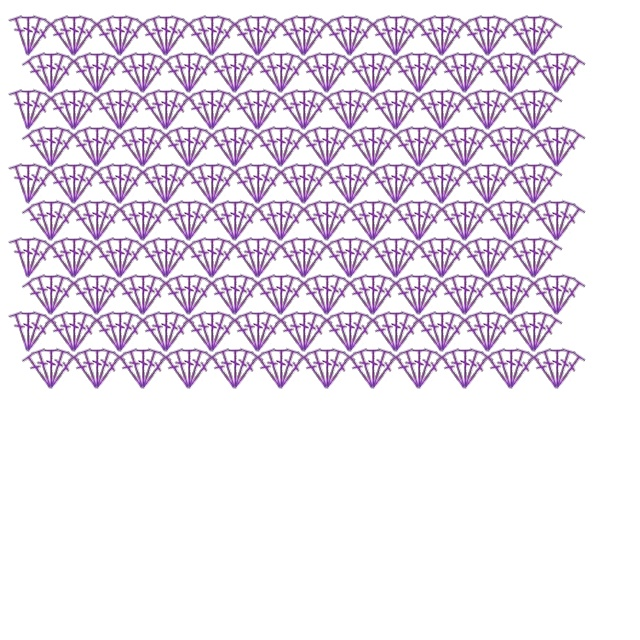double treble: (22, 18, 58, 60), (44, 18, 80, 60), (68, 18, 104, 60), (90, 18, 126, 60), (114, 18, 150, 60), (136, 18, 172, 60), (160, 18, 196, 60), (182, 18, 218, 60), (206, 18, 242, 60), (228, 18, 264, 60), (252, 18, 288, 60), (274, 18, 310, 60), (298, 18, 334, 60), (320, 18, 356, 60), (344, 18, 380, 60), (366, 18, 402, 60), (390, 18, 426, 60), (412, 18, 448, 60), (436, 18, 472, 60), (458, 18, 494, 60), (482, 18, 518, 60), (504, 18, 540, 60), (528, 18, 564, 60), (21, 55, 57, 97), (45, 55, 81, 97), (67, 55, 103, 97), (91, 55, 127, 97), (113, 55, 149, 97), (137, 55, 173, 97), (159, 55, 195, 97), (183, 55, 219, 97), (205, 55, 241, 97), (229, 55, 265, 97), (251, 55, 287, 97), (275, 55, 311, 97), (297, 55, 333, 97), (321, 55, 357, 97), (343, 55, 379, 97), (367, 55, 403, 97), (389, 55, 425, 97), (413, 55, 449, 97), (435, 55, 471, 97), (459, 55, 495, 97), (481, 55, 517, 97), (505, 55, 541, 97), (527, 55, 563, 97), (551, 55, 587, 97), (22, 92, 58, 134), (44, 92, 80, 134), (68, 92, 104, 134), (90, 92, 126, 134), (114, 92, 150, 134), (136, 92, 172, 134), (160, 92, 196, 134), (182, 92, 218, 134), (206, 92, 242, 134), (228, 92, 264, 134), (252, 92, 288, 134), (274, 92, 310, 134), (298, 92, 334, 134), (320, 92, 356, 134), (344, 92, 380, 134), (366, 92, 402, 134), (390, 92, 426, 134), (412, 92, 448, 134), (436, 92, 472, 134), (458, 92, 494, 134), (482, 92, 518, 134), (504, 92, 540, 134), (528, 92, 564, 134), (21, 129, 57, 171), (45, 129, 81, 171), (67, 129, 103, 171), (91, 129, 127, 171), (113, 129, 149, 171), (137, 129, 173, 171), (159, 129, 195, 171), (183, 129, 219, 171), (205, 129, 241, 171), (229, 129, 265, 171), (251, 129, 287, 171), (275, 129, 311, 171), (297, 129, 333, 171), (321, 129, 357, 171), (343, 129, 379, 171), (367, 129, 403, 171), (389, 129, 425, 171), (413, 129, 449, 171), (435, 129, 471, 171), (459, 129, 495, 171), (481, 129, 517, 171), (505, 129, 541, 171), (527, 129, 563, 171), (551, 129, 587, 171), (22, 166, 58, 208), (44, 166, 80, 208), (68, 166, 104, 208), (90, 166, 126, 208), (114, 166, 150, 208), (136, 166, 172, 208), (160, 166, 196, 208), (182, 166, 218, 208), (206, 166, 242, 208), (228, 166, 264, 208), (252, 166, 288, 208), (274, 166, 310, 208), (298, 166, 334, 208), (320, 166, 356, 208), (344, 166, 380, 208), (366, 166, 402, 208), (390, 166, 426, 208), (412, 166, 448, 208), (436, 166, 472, 208), (458, 166, 494, 208), (482, 166, 518, 208), (504, 166, 540, 208), (528, 166, 564, 208), (21, 203, 57, 245), (45, 203, 81, 245), (67, 203, 103, 245), (91, 203, 127, 245), (113, 203, 149, 245), (137, 203, 173, 245), (159, 203, 195, 245), (183, 203, 219, 245), (205, 203, 241, 245), (229, 203, 265, 245), (251, 203, 287, 245), (275, 203, 311, 245), (297, 203, 333, 245), (321, 203, 357, 245), (343, 203, 379, 245), (367, 203, 403, 245), (389, 203, 425, 245), (413, 203, 449, 245), (435, 203, 471, 245), (459, 203, 495, 245), (481, 203, 517, 245), (505, 203, 541, 245), (527, 203, 563, 245), (551, 203, 587, 245), (22, 240, 58, 282), (44, 240, 80, 282), (68, 240, 104, 282), (90, 240, 126, 282), (114, 240, 150, 282), (136, 240, 172, 282), (160, 240, 196, 282), (182, 240, 218, 282), (206, 240, 242, 282), (228, 240, 264, 282), (252, 240, 288, 282), (274, 240, 310, 282), (298, 240, 334, 282), (320, 240, 356, 282), (344, 240, 380, 282), (366, 240, 402, 282), (390, 240, 426, 282), (412, 240, 448, 282), (436, 240, 472, 282), (458, 240, 494, 282), (482, 240, 518, 282), (504, 240, 540, 282), (528, 240, 564, 282), (21, 277, 57, 319), (45, 277, 81, 319), (67, 277, 103, 319), (91, 277, 127, 319), (113, 277, 149, 319), (137, 277, 173, 319), (159, 277, 195, 319), (183, 277, 219, 319), (205, 277, 241, 319), (229, 277, 265, 319), (251, 277, 287, 319), (275, 277, 311, 319), (297, 277, 333, 319), (321, 277, 357, 319), (343, 277, 379, 319), (367, 277, 403, 319), (389, 277, 425, 319), (413, 277, 449, 319), (435, 277, 471, 319), (459, 277, 495, 319), (481, 277, 517, 319), (505, 277, 541, 319), (527, 277, 563, 319), (551, 277, 587, 319), (22, 314, 58, 356), (44, 314, 80, 356), (68, 314, 104, 356), (90, 314, 126, 356), (114, 314, 150, 356), (136, 314, 172, 356), (160, 314, 196, 356), (182, 314, 218, 356), (206, 314, 242, 356), (228, 314, 264, 356), (252, 314, 288, 356), (274, 314, 310, 356), (298, 314, 334, 356), (320, 314, 356, 356), (344, 314, 380, 356), (366, 314, 402, 356), (390, 314, 426, 356), (412, 314, 448, 356), (436, 314, 472, 356), (458, 314, 494, 356), (482, 314, 518, 356), (504, 314, 540, 356), (528, 314, 564, 356), (21, 351, 57, 393), (45, 351, 81, 393), (67, 351, 103, 393), (91, 351, 127, 393), (113, 351, 149, 393), (137, 351, 173, 393), (159, 351, 195, 393), (183, 351, 219, 393), (205, 351, 241, 393), (229, 351, 265, 393), (251, 351, 287, 393), (275, 351, 311, 393), (297, 351, 333, 393), (321, 351, 357, 393), (343, 351, 379, 393), (367, 351, 403, 393), (389, 351, 425, 393), (413, 351, 449, 393), (435, 351, 471, 393), (459, 351, 495, 393), (481, 351, 517, 393), (505, 351, 541, 393), (527, 351, 563, 393), (551, 351, 587, 393), (9, 14, 35, 58), (21, 14, 47, 58), (55, 14, 81, 58), (67, 14, 93, 58), (101, 14, 127, 58), (113, 14, 139, 58), (147, 14, 173, 58), (159, 14, 185, 58), (193, 14, 219, 58), (205, 14, 231, 58), (239, 14, 265, 58), (251, 14, 277, 58), (285, 14, 311, 58), (297, 14, 323, 58), (331, 14, 357, 58), (343, 14, 369, 58), (377, 14, 403, 58), (389, 14, 415, 58), (423, 14, 449, 58), (435, 14, 461, 58), (469, 14, 495, 58), (481, 14, 507, 58), (515, 14, 541, 58), (527, 14, 553, 58), (32, 51, 58, 95), (44, 51, 70, 95), (78, 51, 104, 95), (90, 51, 116, 95), (124, 51, 150, 95), (136, 51, 162, 95), (170, 51, 196, 95), (182, 51, 208, 95), (216, 51, 242, 95), (228, 51, 254, 95), (262, 51, 288, 95), (274, 51, 300, 95), (308, 51, 334, 95), (320, 51, 346, 95), (354, 51, 380, 95), (366, 51, 392, 95), (400, 51, 426, 95), (412, 51, 438, 95), (446, 51, 472, 95), (458, 51, 484, 95), (492, 51, 518, 95), (504, 51, 530, 95), (538, 51, 564, 95), (550, 51, 576, 95), (9, 88, 35, 132), (21, 88, 47, 132), (55, 88, 81, 132), (67, 88, 93, 132), (101, 88, 127, 132), (113, 88, 139, 132), (147, 88, 173, 132), (159, 88, 185, 132), (193, 88, 219, 132), (205, 88, 231, 132), (239, 88, 265, 132), (251, 88, 277, 132), (285, 88, 311, 132), (297, 88, 323, 132), (331, 88, 357, 132), (343, 88, 369, 132), (377, 88, 403, 132), (389, 88, 415, 132), (423, 88, 449, 132), (435, 88, 461, 132), (469, 88, 495, 132), (481, 88, 507, 132), (515, 88, 541, 132), (527, 88, 553, 132), (32, 125, 58, 169), (44, 125, 70, 169), (78, 125, 104, 169), (90, 125, 116, 169), (124, 125, 150, 169), (136, 125, 162, 169), (170, 125, 196, 169), (182, 125, 208, 169), (216, 125, 242, 169), (228, 125, 254, 169), (262, 125, 288, 169), (274, 125, 300, 169), (308, 125, 334, 169), (320, 125, 346, 169), (354, 125, 380, 169), (366, 125, 392, 169), (400, 125, 426, 169), (412, 125, 438, 169), (446, 125, 472, 169), (458, 125, 484, 169), (492, 125, 518, 169), (504, 125, 530, 169), (538, 125, 564, 169), (550, 125, 576, 169), (9, 162, 35, 206), (21, 162, 47, 206), (55, 162, 81, 206), (67, 162, 93, 206), (101, 162, 127, 206), (113, 162, 139, 206), (147, 162, 173, 206), (159, 162, 185, 206), (193, 162, 219, 206), (205, 162, 231, 206), (239, 162, 265, 206), (251, 162, 277, 206), (285, 162, 311, 206), (297, 162, 323, 206), (331, 162, 357, 206), (343, 162, 369, 206), (377, 162, 403, 206), (389, 162, 415, 206), (423, 162, 449, 206), (435, 162, 461, 206), (469, 162, 495, 206), (481, 162, 507, 206), (515, 162, 541, 206), (527, 162, 553, 206), (32, 199, 58, 243), (44, 199, 70, 243), (78, 199, 104, 243), (90, 199, 116, 243), (124, 199, 150, 243), (136, 199, 162, 243), (170, 199, 196, 243), (182, 199, 208, 243), (216, 199, 242, 243), (228, 199, 254, 243), (262, 199, 288, 243), (274, 199, 300, 243), (308, 199, 334, 243), (320, 199, 346, 243), (354, 199, 380, 243), (366, 199, 392, 243), (400, 199, 426, 243), (412, 199, 438, 243), (446, 199, 472, 243), (458, 199, 484, 243), (492, 199, 518, 243), (504, 199, 530, 243), (538, 199, 564, 243), (550, 199, 576, 243), (9, 236, 35, 280), (21, 236, 47, 280), (55, 236, 81, 280), (67, 236, 93, 280), (101, 236, 127, 280), (113, 236, 139, 280), (147, 236, 173, 280), (159, 236, 185, 280), (193, 236, 219, 280), (205, 236, 231, 280), (239, 236, 265, 280), (251, 236, 277, 280), (285, 236, 311, 280), (297, 236, 323, 280), (331, 236, 357, 280), (343, 236, 369, 280), (377, 236, 403, 280), (389, 236, 415, 280), (423, 236, 449, 280), (435, 236, 461, 280), (469, 236, 495, 280), (481, 236, 507, 280), (515, 236, 541, 280), (527, 236, 553, 280), (32, 273, 58, 317), (44, 273, 70, 317), (78, 273, 104, 317), (90, 273, 116, 317), (124, 273, 150, 317), (136, 273, 162, 317), (170, 273, 196, 317), (182, 273, 208, 317), (216, 273, 242, 317), (228, 273, 254, 317), (262, 273, 288, 317), (274, 273, 300, 317), (308, 273, 334, 317), (320, 273, 346, 317), (354, 273, 380, 317), (366, 273, 392, 317), (400, 273, 426, 317), (412, 273, 438, 317), (446, 273, 472, 317), (458, 273, 484, 317), (492, 273, 518, 317), (504, 273, 530, 317), (538, 273, 564, 317), (550, 273, 576, 317), (9, 310, 35, 354), (21, 310, 47, 354), (55, 310, 81, 354), (67, 310, 93, 354), (101, 310, 127, 354), (113, 310, 139, 354), (147, 310, 173, 354), (159, 310, 185, 354), (193, 310, 219, 354), (205, 310, 231, 354), (239, 310, 265, 354), (251, 310, 277, 354), (285, 310, 311, 354), (297, 310, 323, 354), (331, 310, 357, 354), (343, 310, 369, 354), (377, 310, 403, 354), (389, 310, 415, 354), (423, 310, 449, 354), (435, 310, 461, 354), (469, 310, 495, 354), (481, 310, 507, 354), (515, 310, 541, 354), (527, 310, 553, 354), (32, 347, 58, 391), (44, 347, 70, 391), (78, 347, 104, 391), (90, 347, 116, 391), (124, 347, 150, 391), (136, 347, 162, 391), (170, 347, 196, 391), (182, 347, 208, 391), (216, 347, 242, 391), (228, 347, 254, 391), (262, 347, 288, 391), (274, 347, 300, 391), (308, 347, 334, 391), (320, 347, 346, 391), (354, 347, 380, 391), (366, 347, 392, 391), (400, 347, 426, 391), (412, 347, 438, 391), (446, 347, 472, 391), (458, 347, 484, 391), (492, 347, 518, 391), (504, 347, 530, 391), (538, 347, 564, 391), (550, 347, 576, 391), (21, 14, 35, 56), (67, 14, 81, 56), (113, 14, 127, 56), (159, 14, 173, 56), (205, 14, 219, 56), (251, 14, 265, 56), (297, 14, 311, 56), (343, 14, 357, 56), (389, 14, 403, 56), (435, 14, 449, 56), (481, 14, 495, 56), (527, 14, 541, 56), (44, 51, 58, 93), (90, 51, 104, 93), (136, 51, 150, 93), (182, 51, 196, 93), (228, 51, 242, 93), (274, 51, 288, 93), (320, 51, 334, 93), (366, 51, 380, 93), (412, 51, 426, 93), (458, 51, 472, 93), (504, 51, 518, 93), (550, 51, 564, 93), (21, 88, 35, 130), (67, 88, 81, 130), (113, 88, 127, 130), (159, 88, 173, 130), (205, 88, 219, 130), (251, 88, 265, 130), (297, 88, 311, 130), (343, 88, 357, 130), (389, 88, 403, 130), (435, 88, 449, 130), (481, 88, 495, 130), (527, 88, 541, 130), (44, 125, 58, 167), (90, 125, 104, 167), (136, 125, 150, 167), (182, 125, 196, 167), (228, 125, 242, 167), (274, 125, 288, 167), (320, 125, 334, 167), (366, 125, 380, 167), (412, 125, 426, 167), (458, 125, 472, 167), (504, 125, 518, 167), (550, 125, 564, 167), (21, 162, 35, 204), (67, 162, 81, 204), (113, 162, 127, 204), (159, 162, 173, 204), (205, 162, 219, 204), (251, 162, 265, 204), (297, 162, 311, 204), (343, 162, 357, 204), (389, 162, 403, 204), (435, 162, 449, 204), (481, 162, 495, 204), (527, 162, 541, 204), (44, 199, 58, 241), (90, 199, 104, 241), (136, 199, 150, 241), (182, 199, 196, 241), (228, 199, 242, 241), (274, 199, 288, 241), (320, 199, 334, 241), (366, 199, 380, 241), (412, 199, 426, 241), (458, 199, 472, 241), (504, 199, 518, 241), (550, 199, 564, 241), (21, 236, 35, 278), (67, 236, 81, 278), (113, 236, 127, 278), (159, 236, 173, 278), (205, 236, 219, 278), (251, 236, 265, 278), (297, 236, 311, 278), (343, 236, 357, 278), (389, 236, 403, 278), (435, 236, 449, 278), (481, 236, 495, 278), (527, 236, 541, 278), (44, 273, 58, 315), (90, 273, 104, 315), (136, 273, 150, 315), (182, 273, 196, 315), (228, 273, 242, 315), (274, 273, 288, 315), (320, 273, 334, 315), (366, 273, 380, 315), (412, 273, 426, 315), (458, 273, 472, 315), (504, 273, 518, 315), (550, 273, 564, 315), (21, 310, 35, 352), (67, 310, 81, 352), (113, 310, 127, 352), (159, 310, 173, 352), (205, 310, 219, 352), (251, 310, 265, 352), (297, 310, 311, 352), (343, 310, 357, 352), (389, 310, 403, 352), (435, 310, 449, 352), (481, 310, 495, 352), (527, 310, 541, 352), (44, 347, 58, 389), (90, 347, 104, 389), (136, 347, 150, 389), (182, 347, 196, 389), (228, 347, 242, 389), (274, 347, 288, 389), (320, 347, 334, 389), (366, 347, 380, 389), (412, 347, 426, 389), (458, 347, 472, 389), (504, 347, 518, 389), (550, 347, 564, 389)
